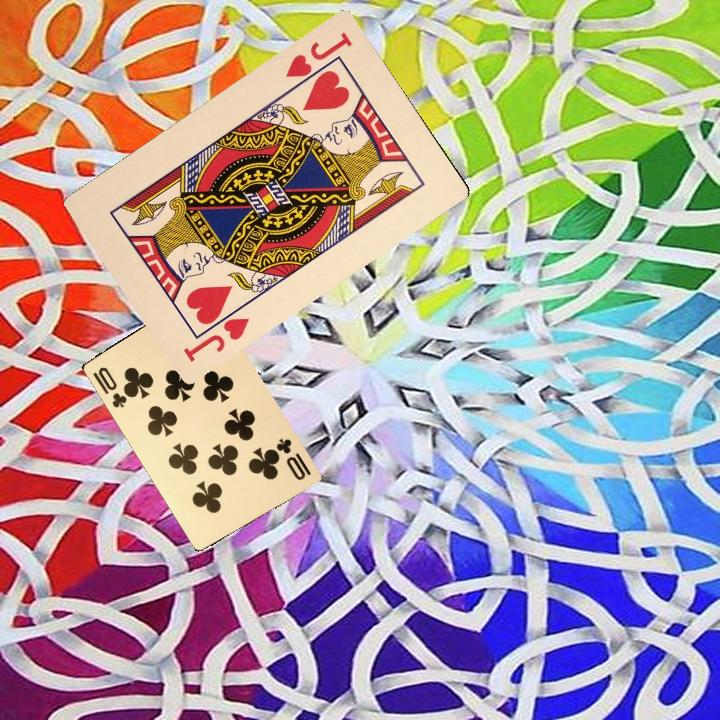10c: (88, 363, 133, 410), (271, 434, 314, 483)
Jh: (281, 28, 355, 93), (179, 313, 252, 365)
